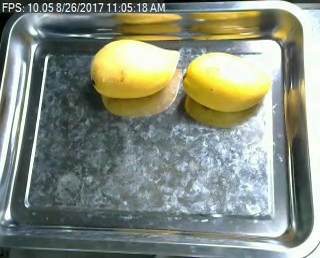Mango: (180, 47, 277, 115), (89, 37, 182, 105)
